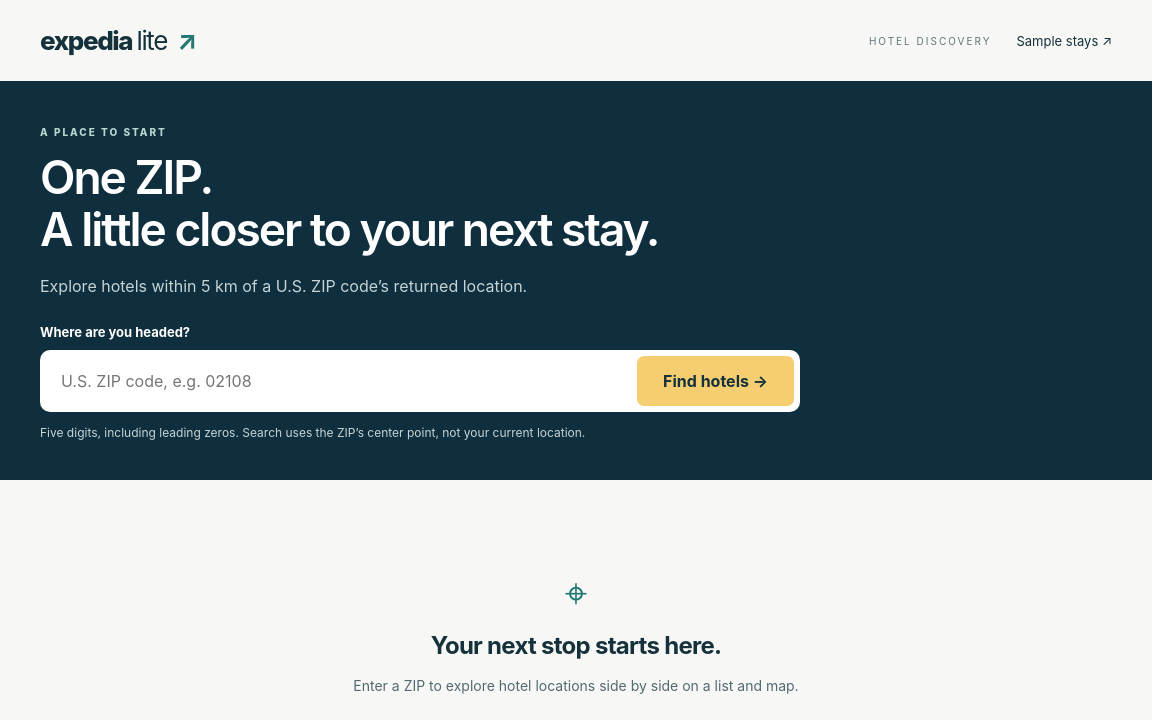
it: distinguishes error 404
Type "02108" into the field labelled "Where are you headed?" at (338, 381), box [46,356,629,406]
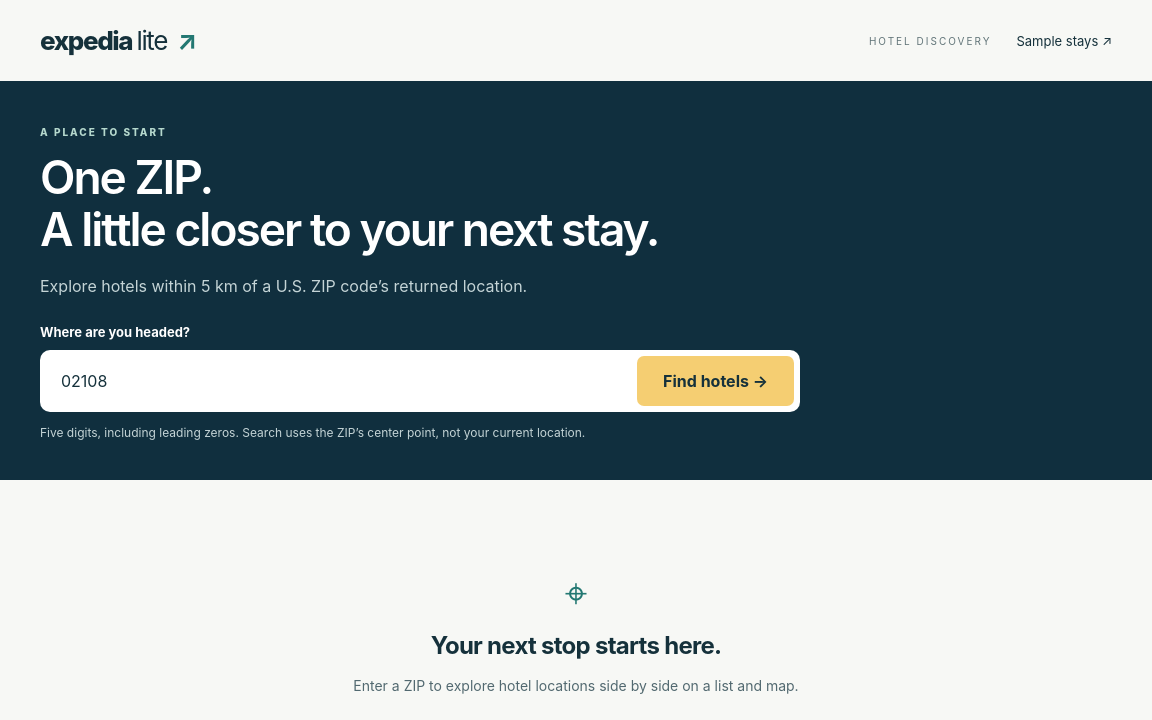
Submit the form, box [40,324,800,442]
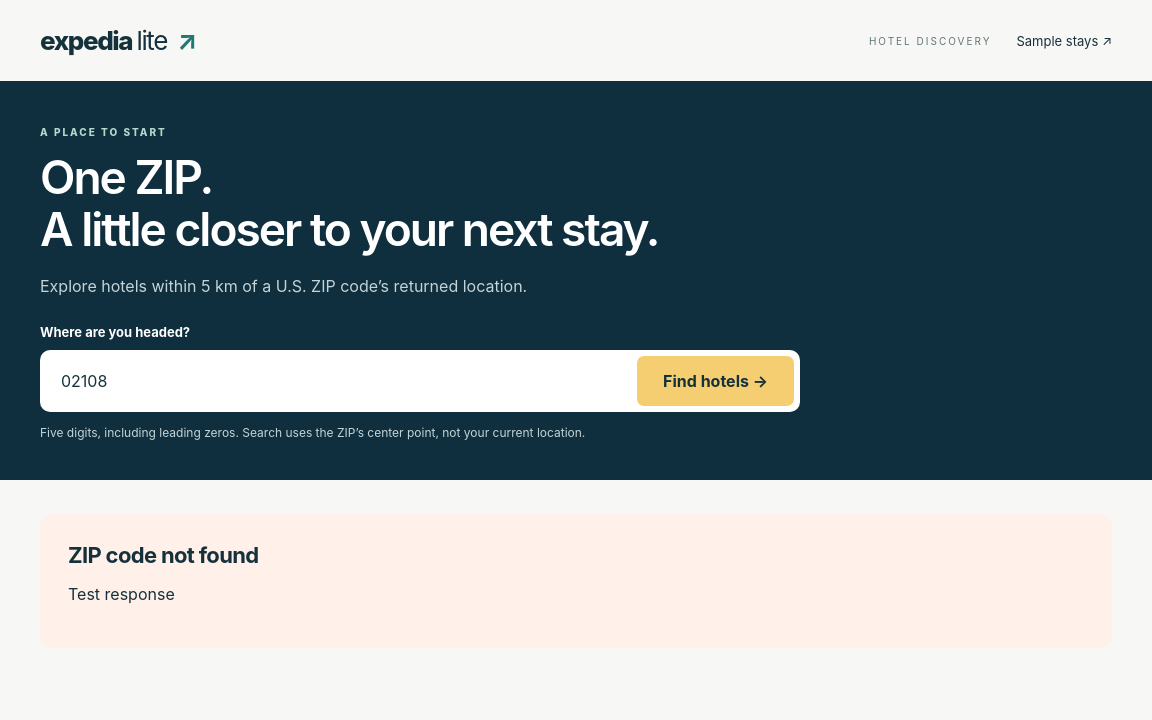
Expected: the message "ZIP code not found Test response" is shown, [40,514,1112,648]
